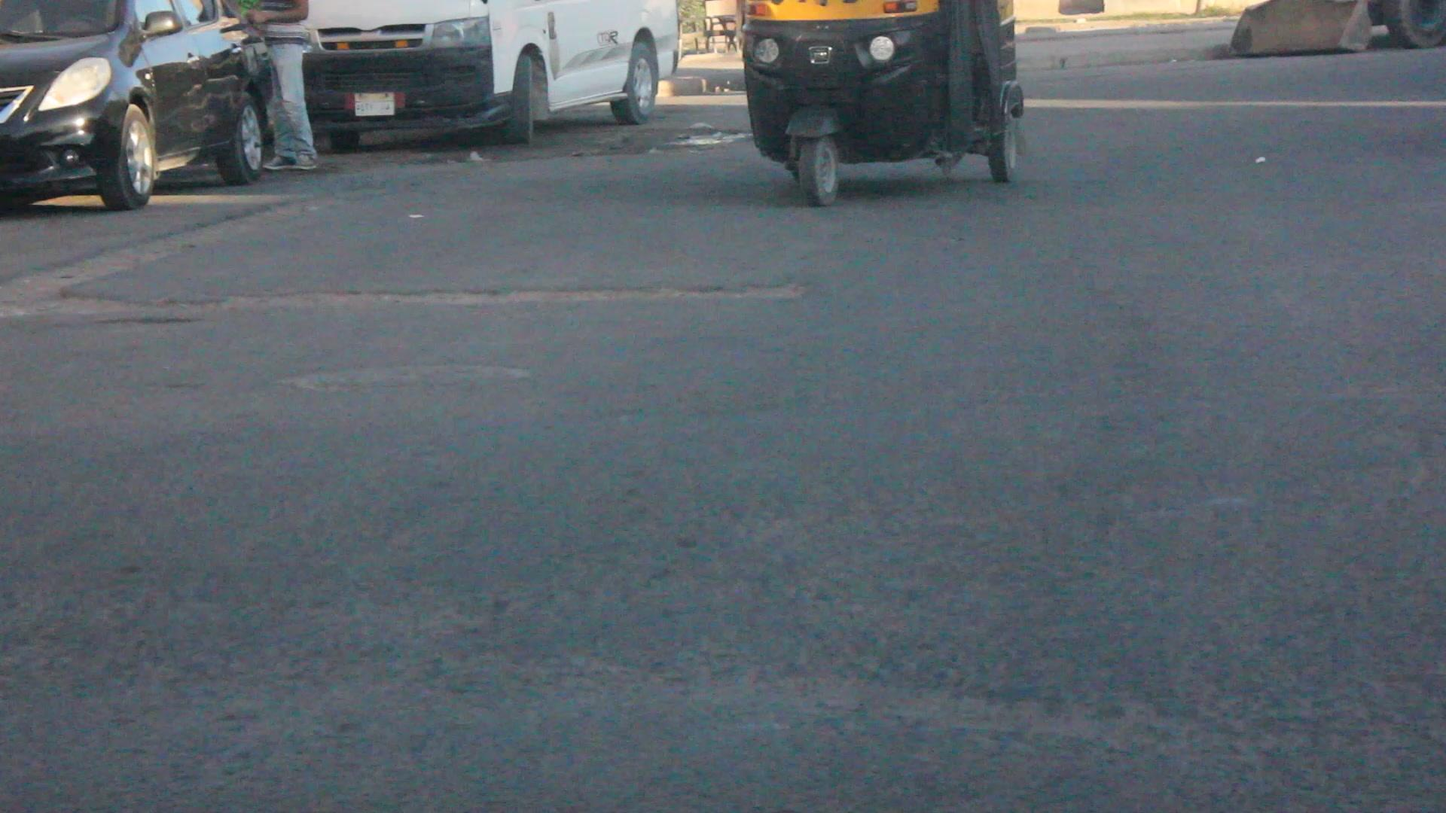Bump: (8, 390, 1446, 608)
Pothole: (58, 279, 823, 311), (638, 117, 729, 171)
